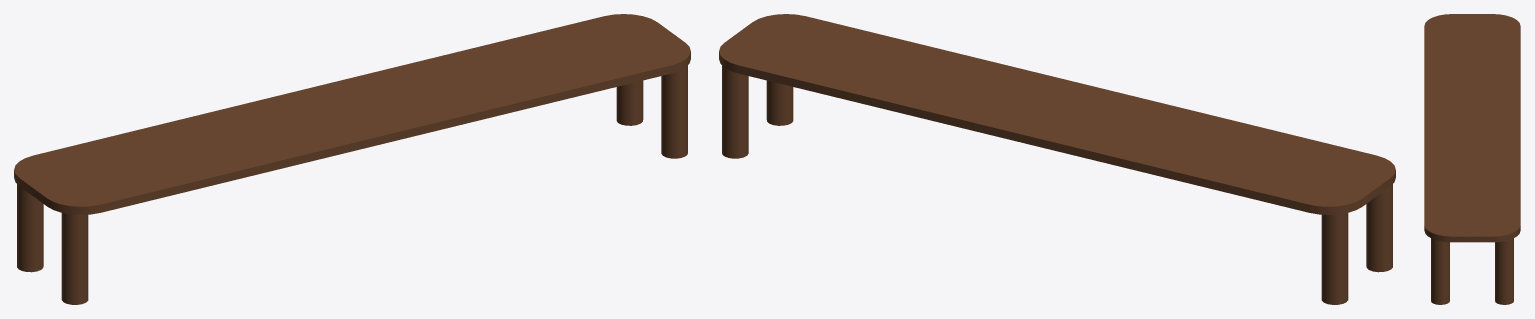
File: DiningTable1.fbx
3 views of the same model, side by side, from view 1: azimuth 30°, elevation 25°; view 2: azimuth 150°, elevation 25°; view 3: azimuth 270°, elevation 25° (orthographic). The views are drawn at different scales.
Parts seen in each view (by area): view 1: DiningTable1; view 2: DiningTable1; view 3: DiningTable1.
Part boxes in pixels (bbox=[...]): DiningTable1: bbox=[14, 14, 690, 304]; DiningTable1: bbox=[719, 14, 1395, 304]; DiningTable1: bbox=[1424, 14, 1520, 304].
Size of the model in its own units: 373 by 55.47 by 68.02.
